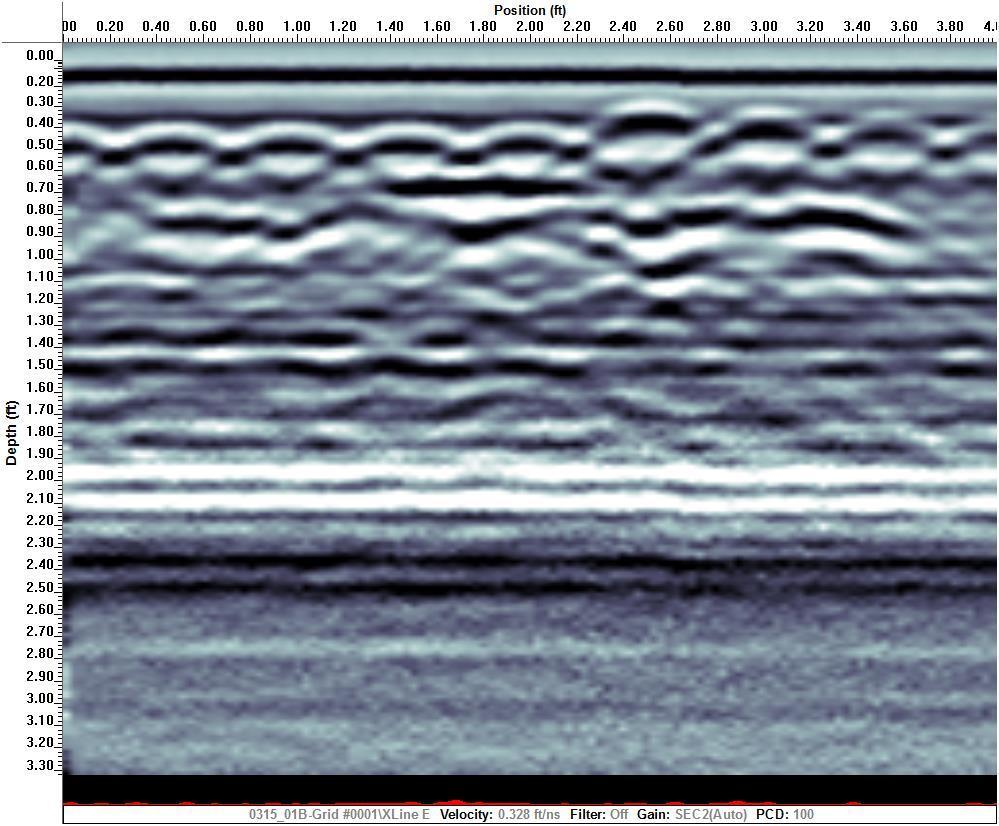hyperbola: (97, 115, 236, 165), (216, 118, 355, 168), (328, 118, 467, 168), (455, 117, 594, 167), (578, 102, 717, 152), (692, 100, 831, 150)
